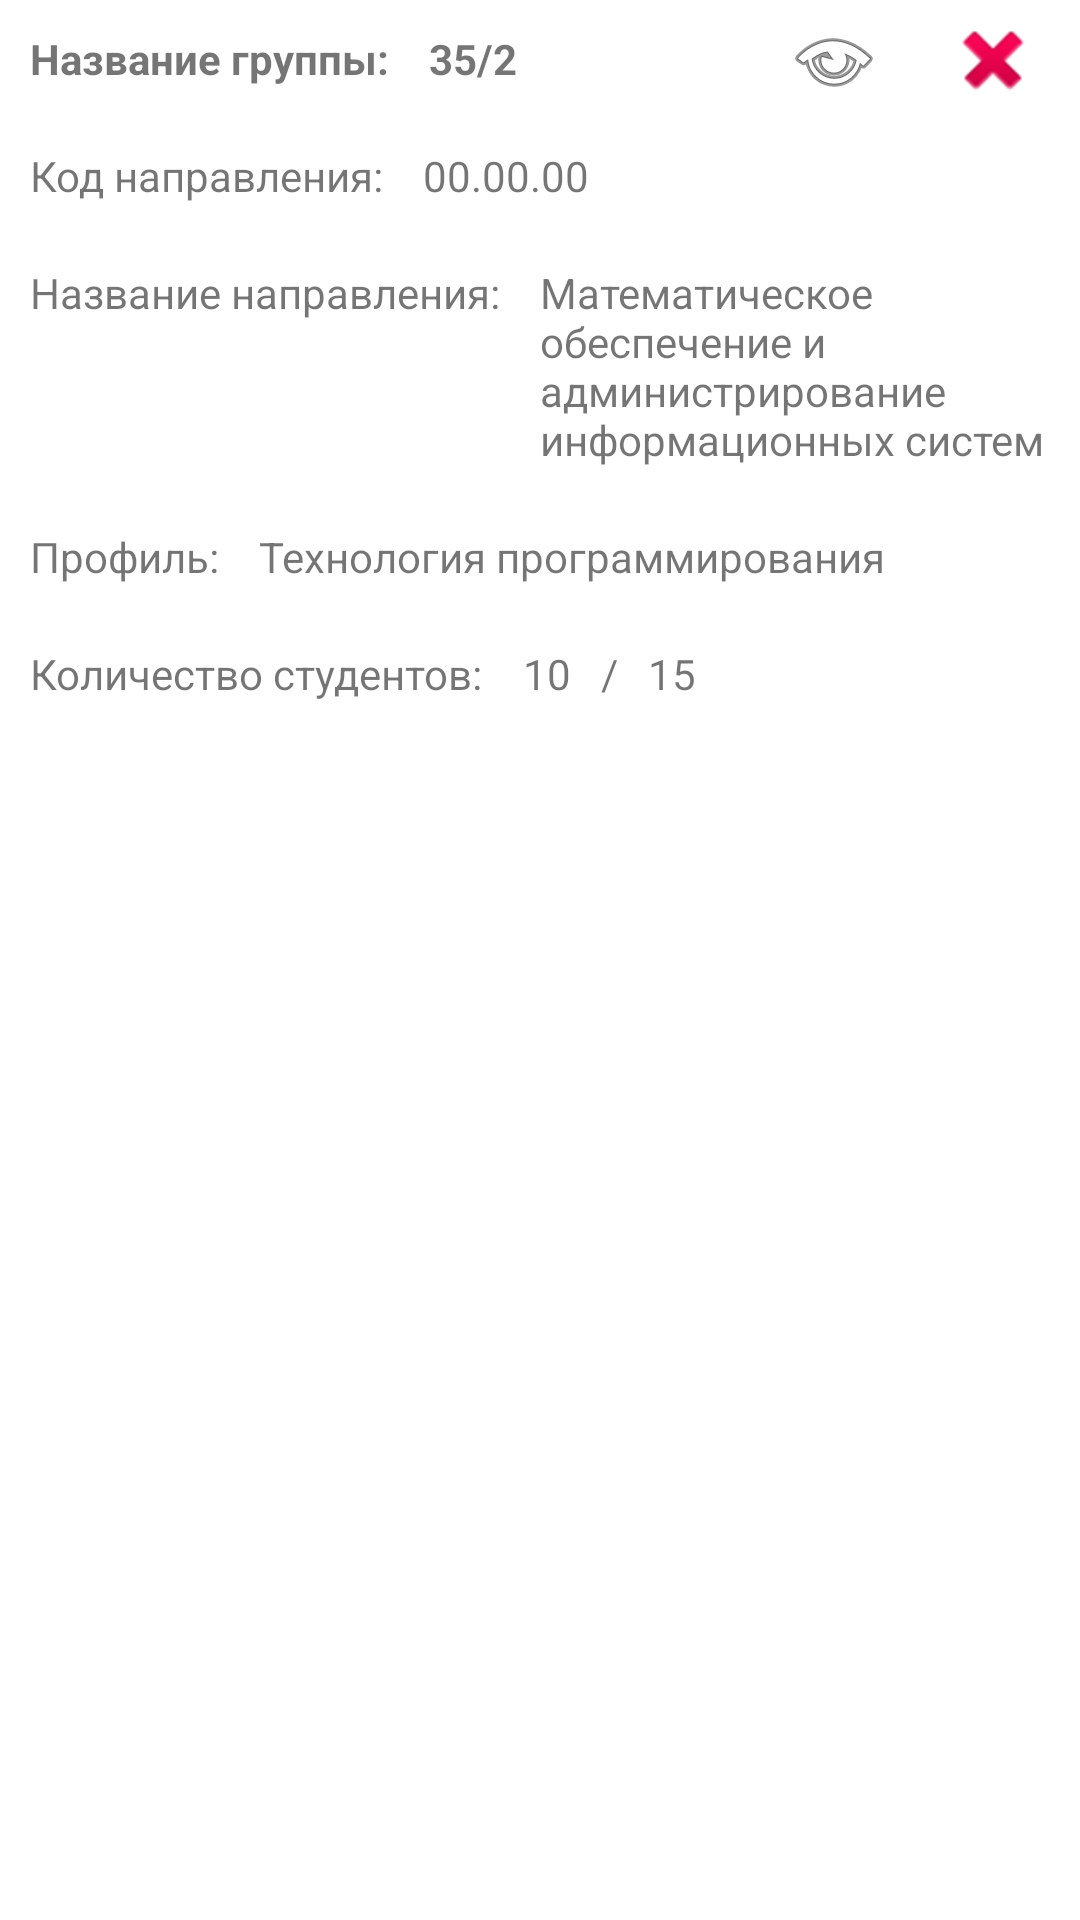

Icons on this 1080px x 1920px Android screen, each with the point to tap as (x=x, y=y):
delete: (x=993, y=60)
view: (x=834, y=62)
